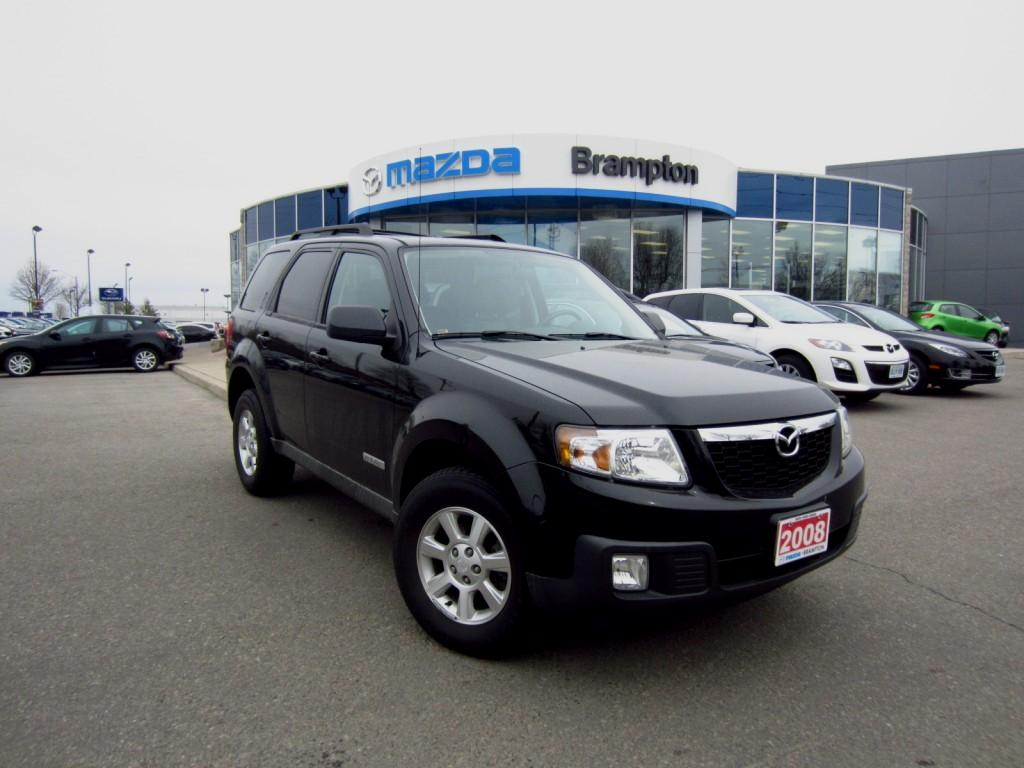Mazda: (764, 417, 822, 461)
